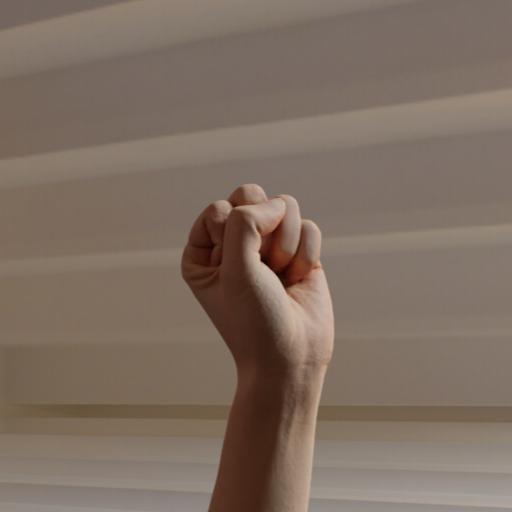S: (171, 152, 347, 406)
